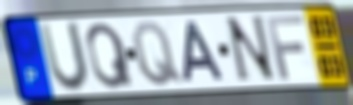A: (182, 19, 227, 86)
F: (264, 13, 307, 82)
N: (223, 13, 280, 86)
Q: (129, 19, 185, 89), (84, 20, 136, 91)
U: (37, 19, 92, 95)
